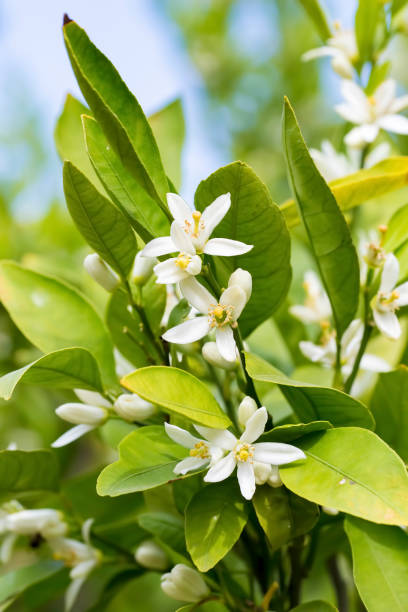flower: (137, 176, 259, 262), (192, 412, 308, 489), (161, 277, 257, 361), (330, 71, 408, 153), (155, 415, 244, 477), (136, 225, 212, 281), (363, 246, 408, 340), (368, 248, 408, 349)
